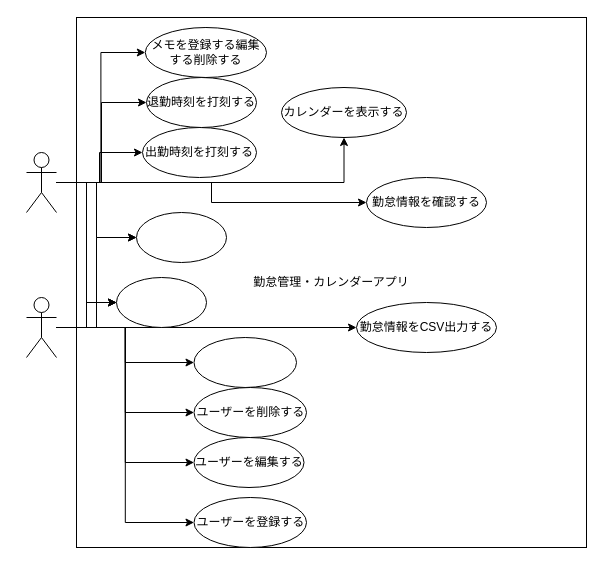
Some shapes in this 604 by 565 pixel diagram are drawn without their labels. The centre of each missing label's shape, as x and y in pixels:
"ログアウトする" goes at point (161, 302).
"ログインする" goes at point (181, 237).
"一般社員" goes at point (41, 182).
"勤怠一覧確認する" goes at point (244, 362).
"管理者" goes at point (41, 327).
